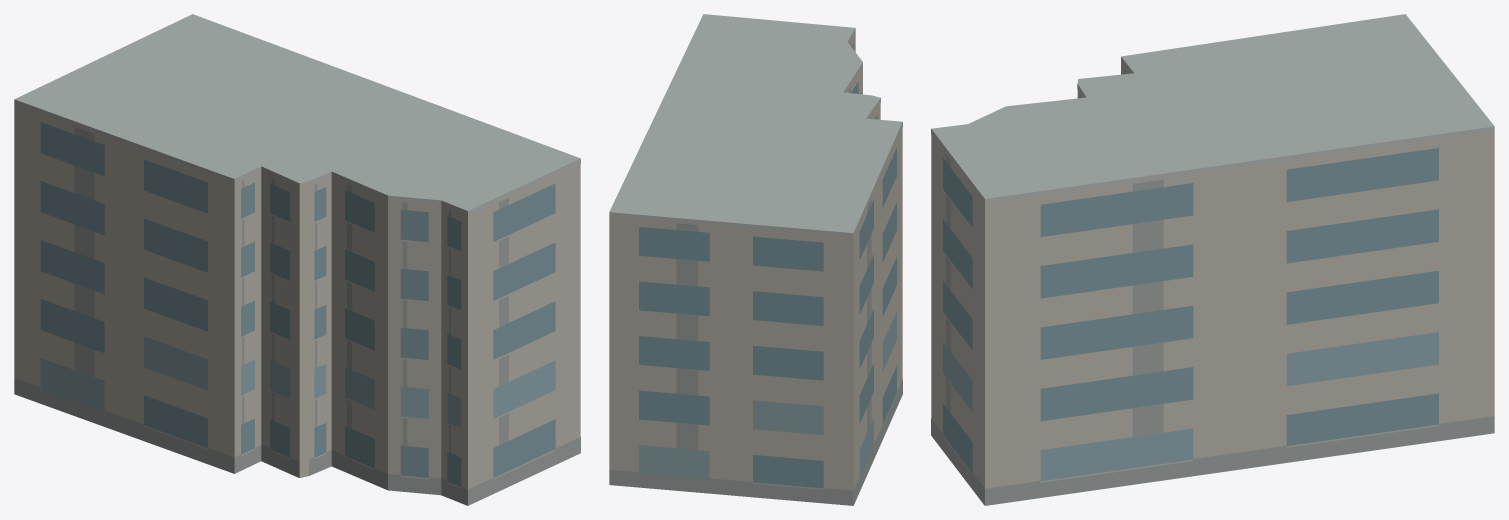
File: survey-upis-32696198.glb
3 views of the same model, side by side, from view 1: azimuth 30°, elevation 25°; view 2: azimuth 150°, elevation 25°; view 3: azimuth 270°, elevation 25° (orthographic). The views are drawn at different scales.
Parts seen in each view (by area): view 1: survey-upis-32696198.tmp; view 2: survey-upis-32696198.tmp; view 3: survey-upis-32696198.tmp.
Boxes of the visible parts, x1,y1,x2,y2 form: survey-upis-32696198.tmp: (14, 14, 580, 505); survey-upis-32696198.tmp: (609, 14, 902, 505); survey-upis-32696198.tmp: (931, 14, 1494, 505).
Size of the model in its own units: 16.18 by 12.5 by 20.81.
